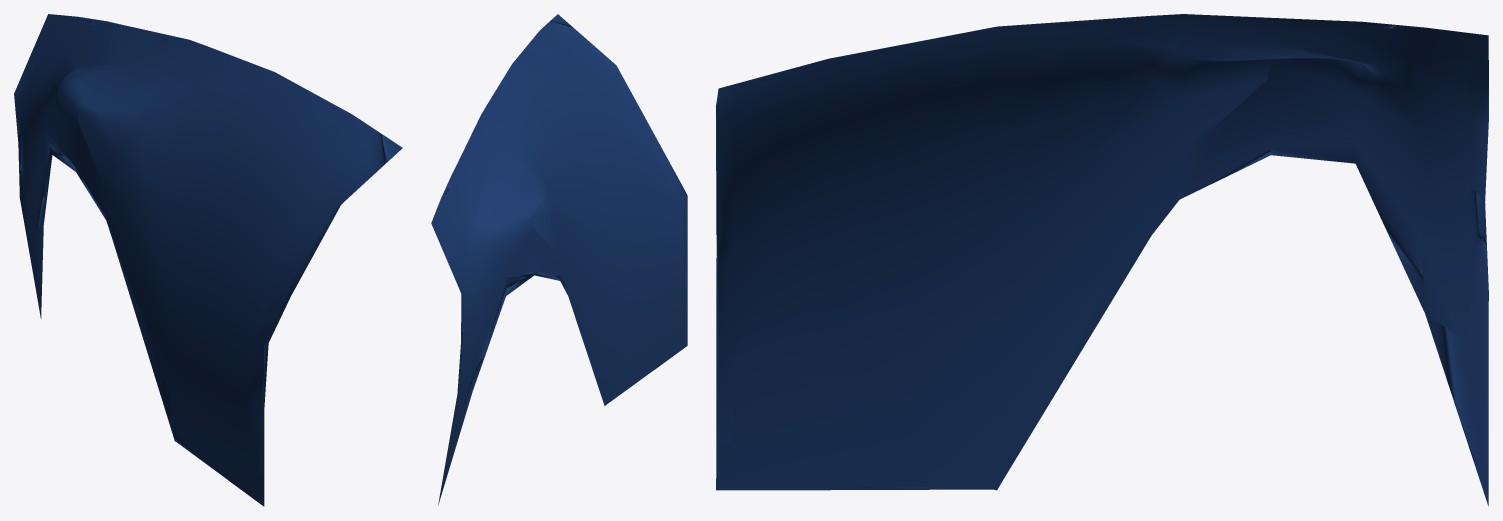
File: quarter_rear_r.glb
3 views of the same model, side by side, from view 1: azimuth 30°, elevation 25°; view 2: azimuth 150°, elevation 25°; view 3: azimuth 270°, elevation 25° (orthographic). The views are drawn at different scales.
Visible parts, largest first — view 1: GEO_Quarter_Rear_R; view 2: GEO_Quarter_Rear_R; view 3: GEO_Quarter_Rear_R.
Boxes of the visible parts, left/top/right/bottom form: GEO_Quarter_Rear_R: left=14, top=14, right=402, bottom=506; GEO_Quarter_Rear_R: left=431, top=14, right=687, bottom=505; GEO_Quarter_Rear_R: left=716, top=14, right=1488, bottom=506.
Bounding box in the file's own units: 0.3889 × 0.8488 × 1.1.
